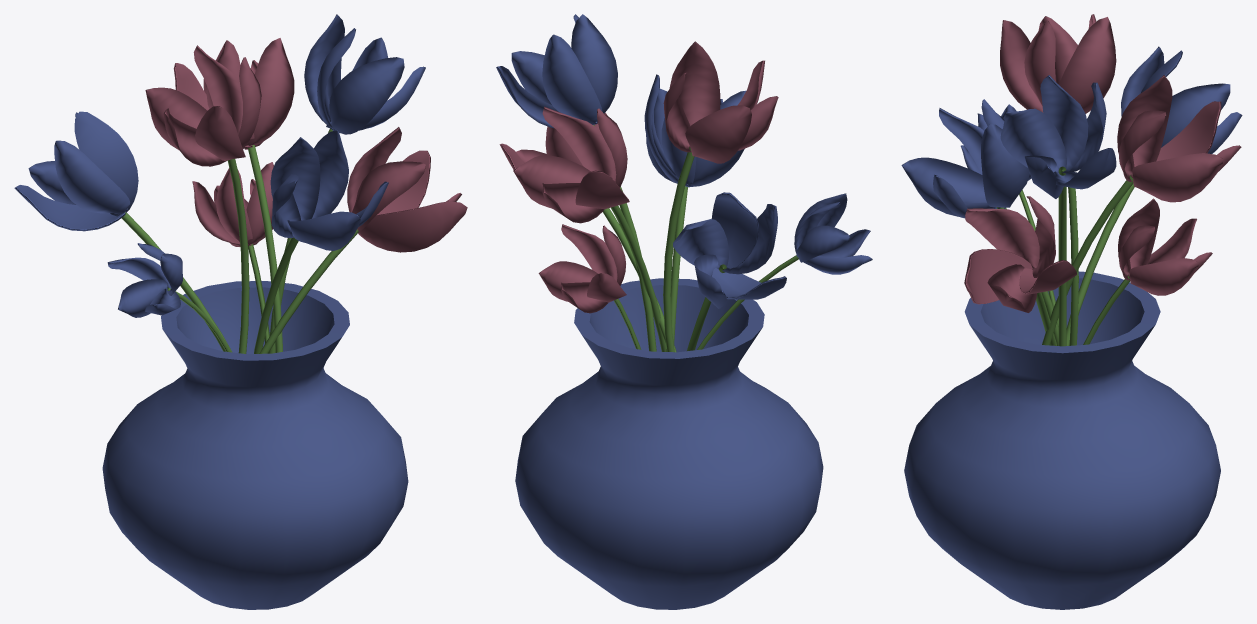
Rendered from tulipVase.fbx.
The picture shows the model from 3 angles, left to right: view 1: azimuth 30°, elevation 25°; view 2: azimuth 150°, elevation 25°; view 3: azimuth 270°, elevation 25°; orthographic projection. The views are drawn at different scales.
Parts seen in each view (by area): view 1: TulipVase; view 2: TulipVase; view 3: TulipVase.
Part boxes in pixels (x1,y1,x2,y2): TulipVase: [14, 14, 467, 609]; TulipVase: [496, 14, 872, 609]; TulipVase: [901, 14, 1242, 609].
Size of the model in its own units: 0.4418 by 0.6344 by 0.3539.
